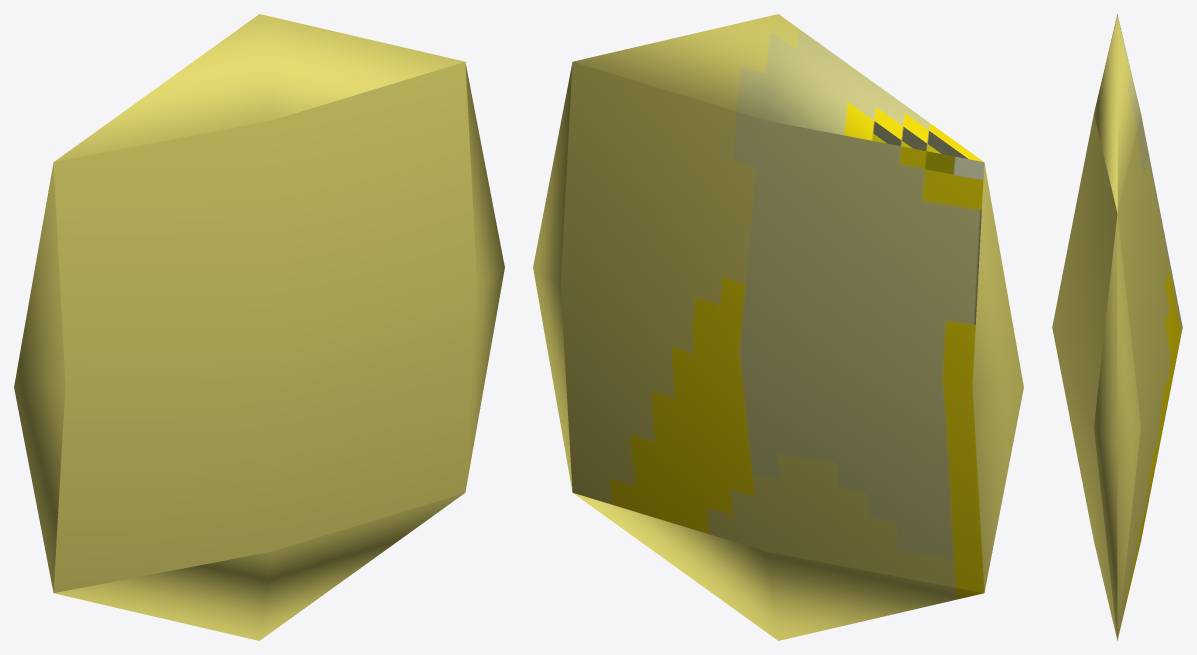
Rendered from COIN.obj.
3 renders of one model, left to right at view 1: azimuth 30°, elevation 25°; view 2: azimuth 150°, elevation 25°; view 3: azimuth 270°, elevation 25°, orthographic.
Parts seen in each view (by area): view 1: pCube1; view 2: pCube1; view 3: pCube1.
Part boxes in pixels (<box>): pCube1: <box>14,14,504,640</box>; pCube1: <box>533,14,1023,640</box>; pCube1: <box>1052,14,1182,640</box>.
Size of the model in its own units: 1.19 by 1.45 by 0.2767.
